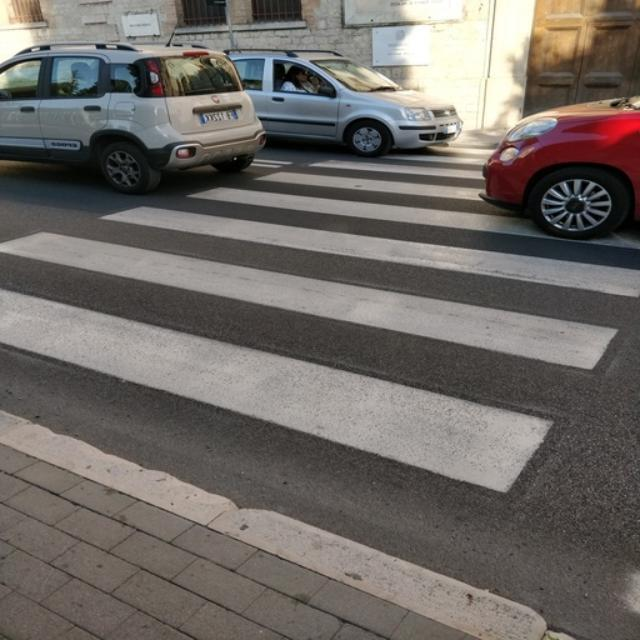sidewalk: (0, 131, 640, 578)
